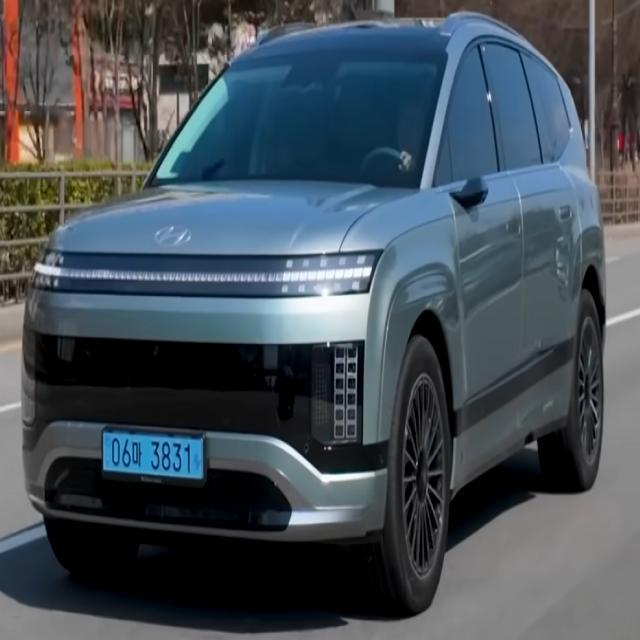car: (93, 416, 220, 502)
carev: (190, 429, 207, 491), (99, 424, 112, 481)
